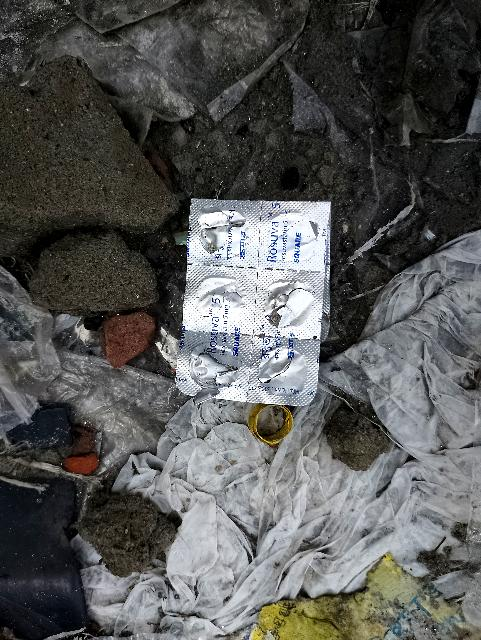medicine: (186, 196, 331, 407)
